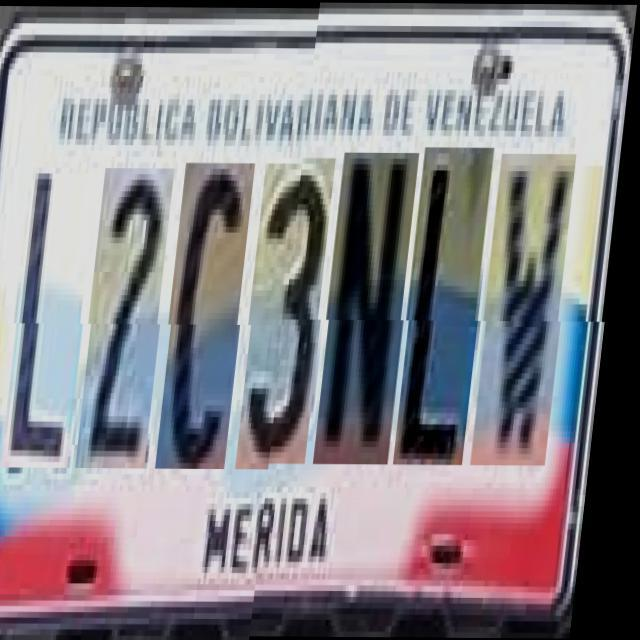2: (86, 168, 182, 468)
3: (246, 163, 342, 469)
C: (166, 162, 262, 468)
L: (403, 153, 500, 470), (12, 168, 104, 468)
N: (323, 158, 425, 470)
W: (480, 158, 582, 470)
